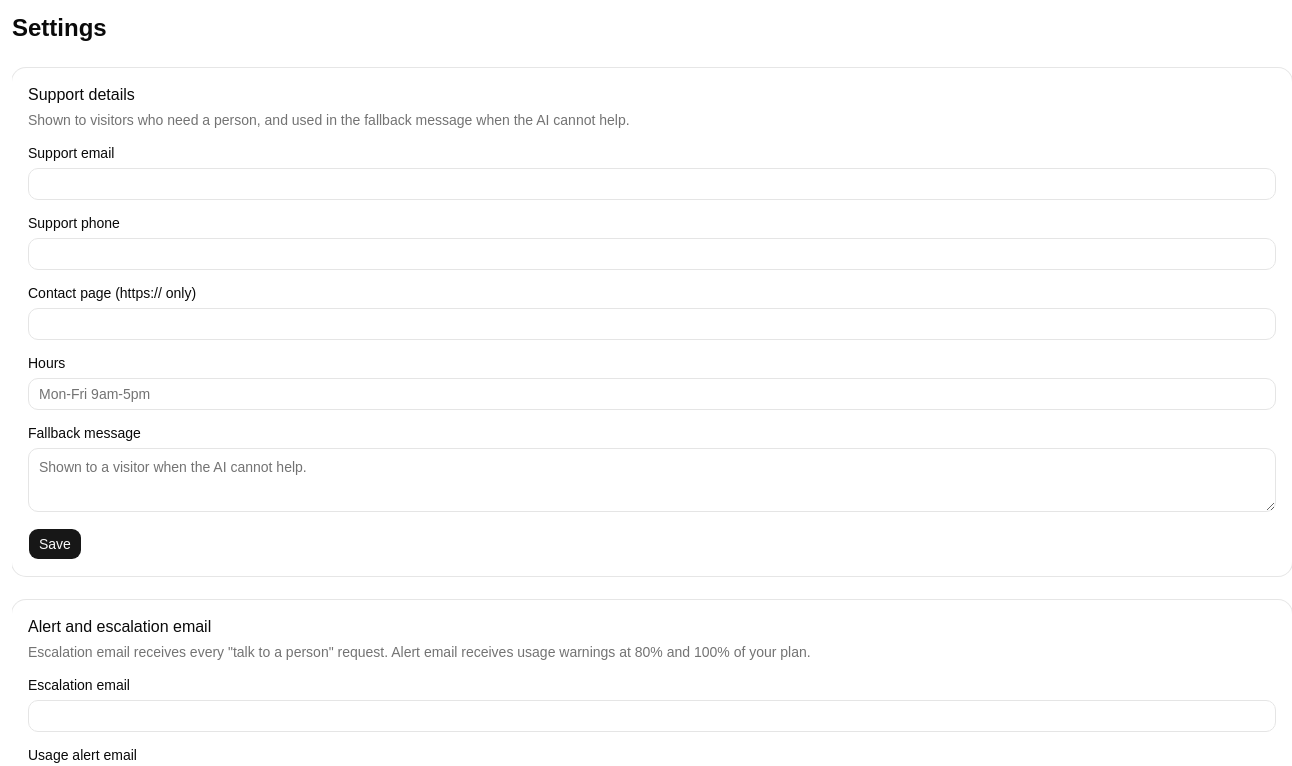
Test: SettingsScreen › shows a save error without internal detail text when a save fails
The width and height of the screenshot is (1292, 766).
Expected: the field labelled "Support email" is shown, left=28, top=168, right=1276, bottom=200
Step 1. Click the button "Save" → x=55, y=544, box left=28, top=528, right=82, bottom=560
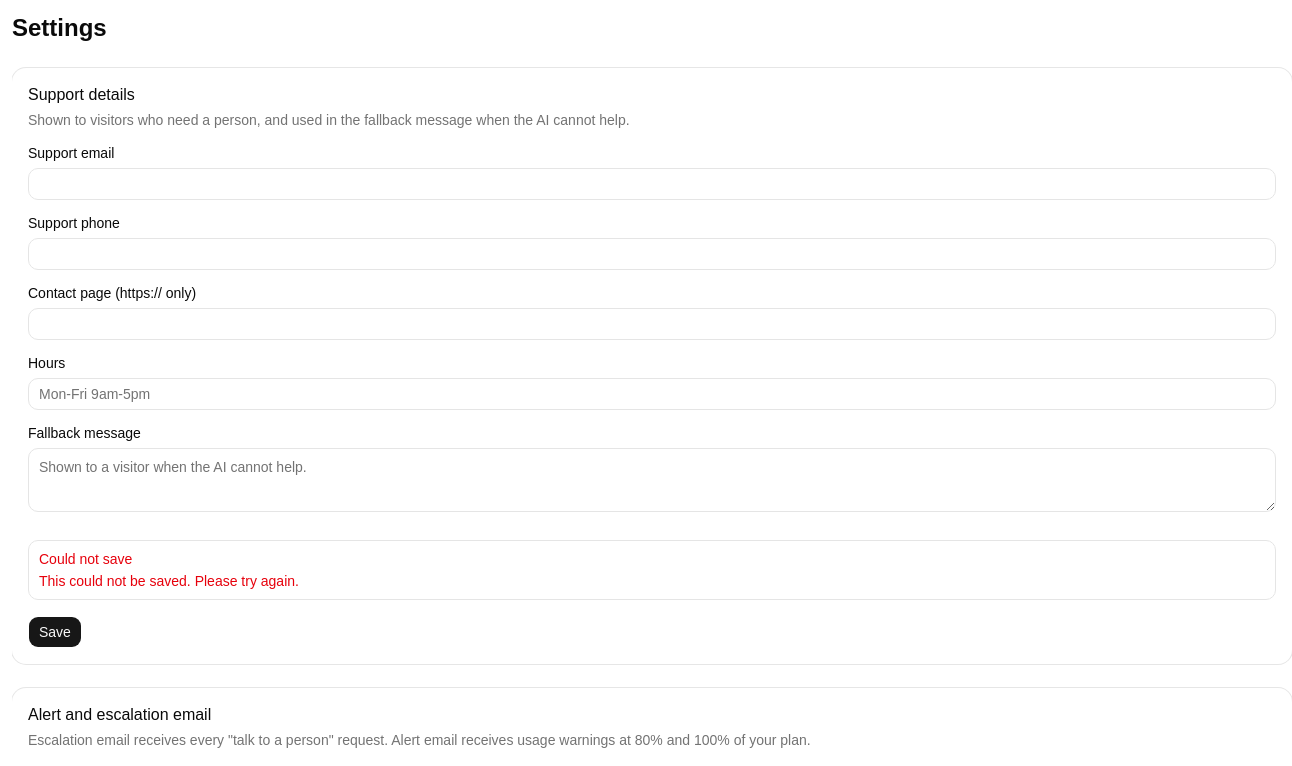
Expected: the text "This could not be saved. Please try again." is shown, left=39, top=573, right=299, bottom=589
